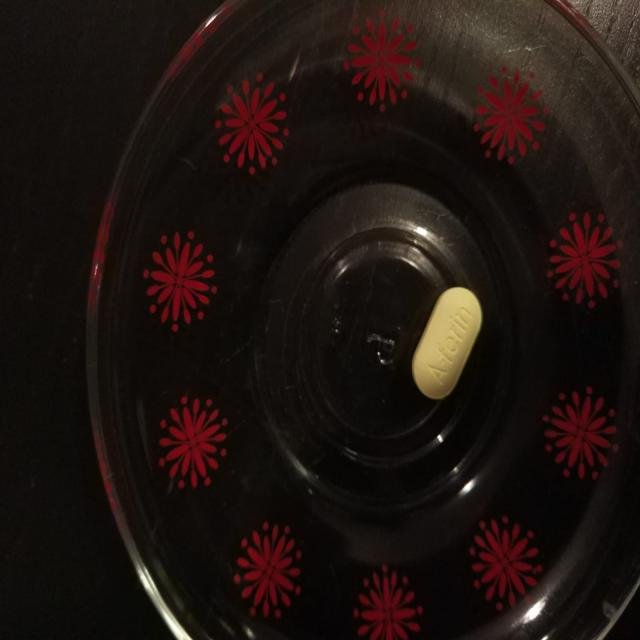pills: (402, 279, 490, 409)
